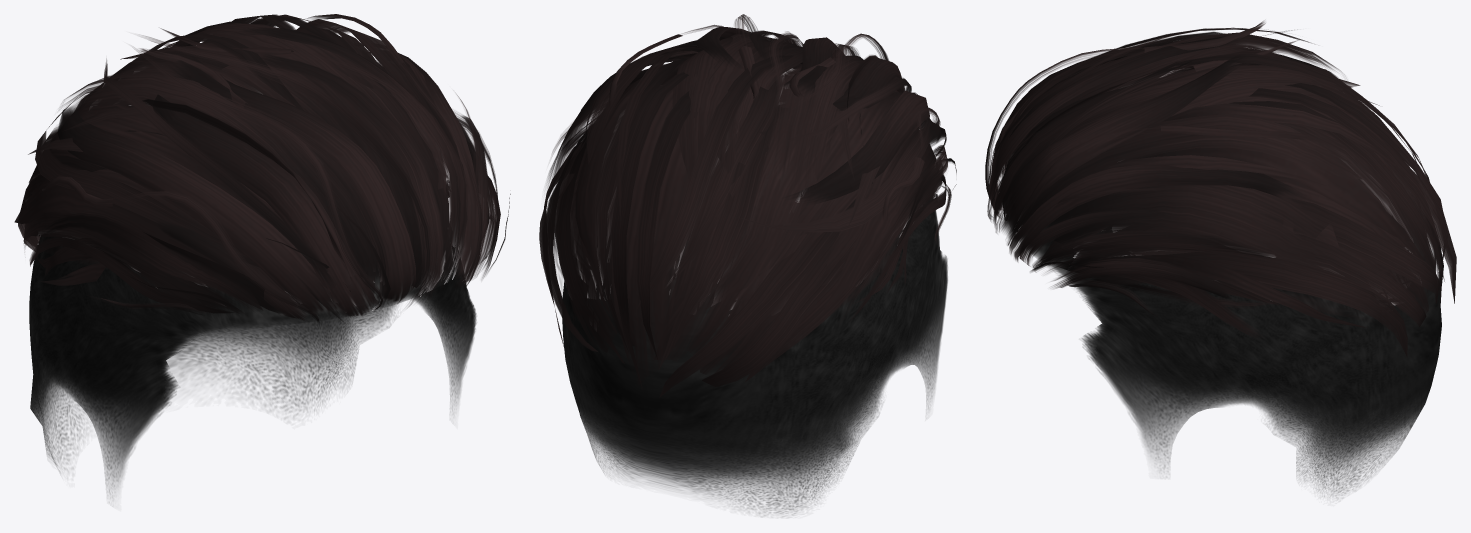
File: slick back.glb
3 renders of one model, left to right at view 1: azimuth 30°, elevation 25°; view 2: azimuth 150°, elevation 25°; view 3: azimuth 270°, elevation 25°, orthographic. The views are drawn at different scales.
Visible parts, largest first — view 1: hair09, face.002_Plane.003; view 2: hair09, face.002_Plane.003; view 3: hair09, face.002_Plane.003.
Boxes of the visible parts, left/top/right/bottom form: hair09: left=14, top=14, right=510, bottom=322; face.002_Plane.003: left=29, top=236, right=476, bottom=497; hair09: left=539, top=14, right=956, bottom=397; face.002_Plane.003: left=562, top=198, right=947, bottom=516; hair09: left=985, top=21, right=1456, bottom=356; face.002_Plane.003: left=1019, top=222, right=1441, bottom=498.
Bounding box in the file's own units: 0.2076 × 0.233 × 0.2369.
Materials: 2 (2 with a texture image).
